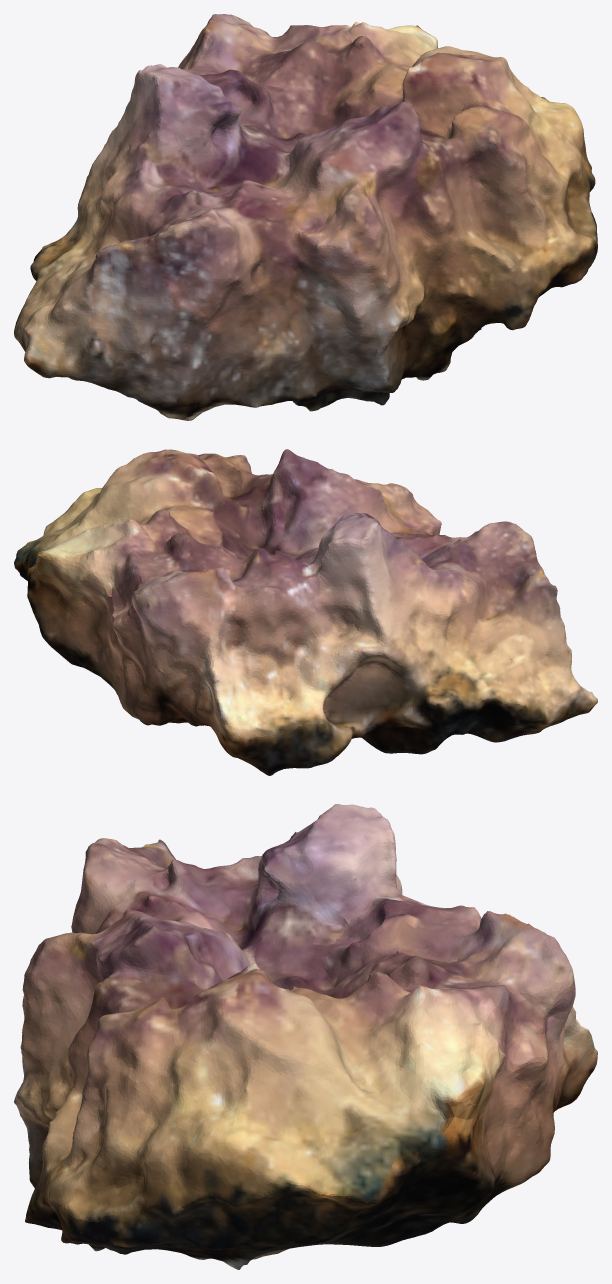
The model's file is Scaniverse 2024-03-25 140857.glb.
3 renders of one model, top to bottom at view 1: azimuth 30°, elevation 25°; view 2: azimuth 150°, elevation 25°; view 3: azimuth 270°, elevation 25°, orthographic. The views are drawn at different scales.
Visible parts, largest first — view 1: mesh; view 2: mesh; view 3: mesh.
Part boxes in pixels (left/top/right/bottom): mesh: left=14, top=14, right=597, bottom=420; mesh: left=14, top=449, right=597, bottom=775; mesh: left=14, top=804, right=597, bottom=1269.
Size of the model in its own units: 0.1123 by 0.0521 by 0.0784.
Materials: 1 (1 with a texture image).
